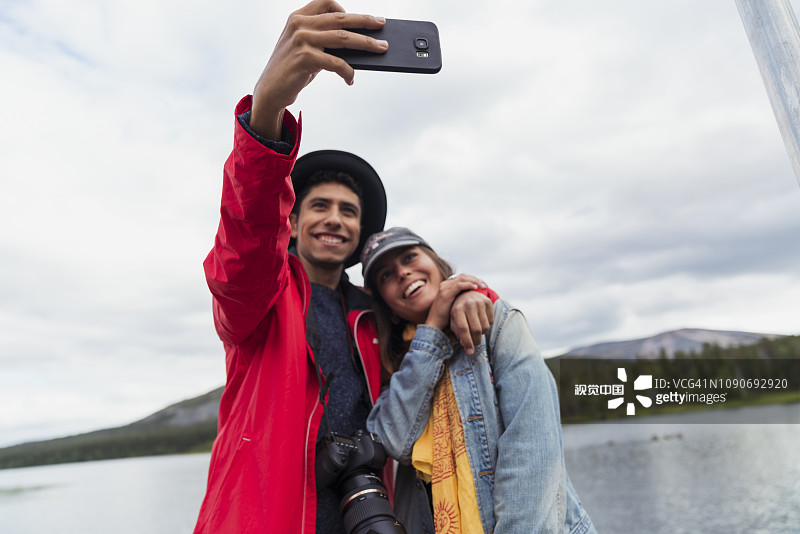taking photos: (220, 1, 449, 120)
